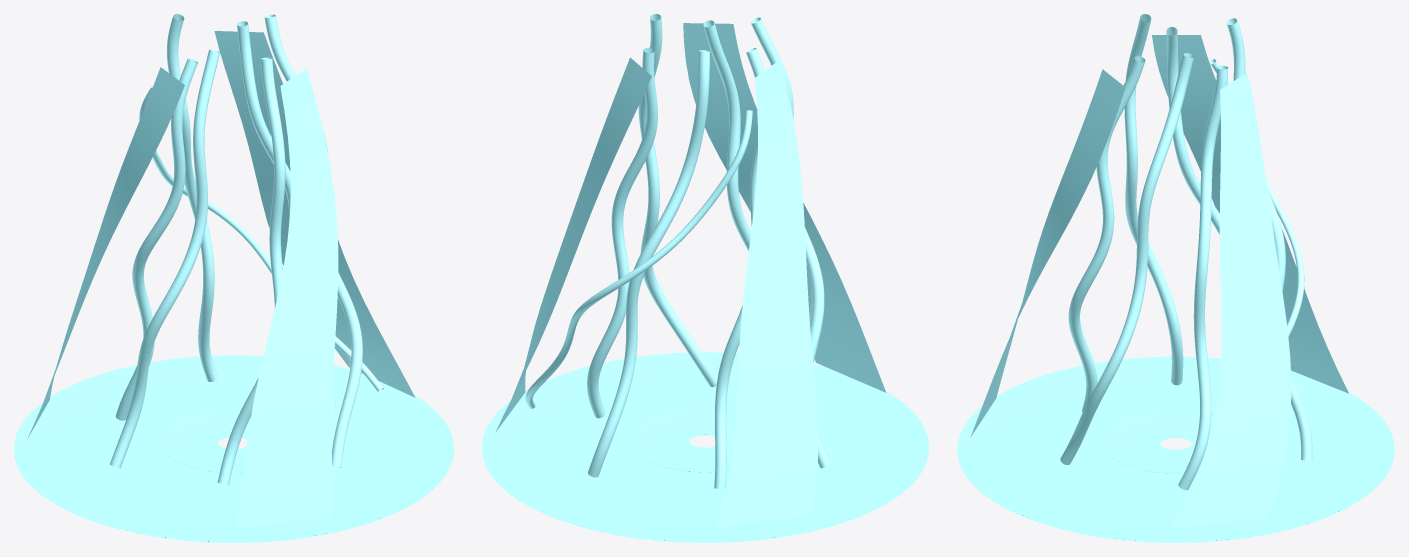
Rendered from CyberPickupLiftAura.fbx.
3 views of the same model, side by side, from view 1: azimuth 30°, elevation 25°; view 2: azimuth 150°, elevation 25°; view 3: azimuth 270°, elevation 25° (orthographic). The views are drawn at different scales.
Parts seen in each view (by area): view 1: CPLA_floor faint glow halo, CPLA_soft transparent air veil 03, CPLA_soft transparent air veil 01, CPLA_soft transparent air veil 02, CPLA_soft halo around stream 04, CPLA_soft halo around stream 05, CPLA_soft halo around stream 03, CPLA_floor soft jet origin, CPLA_soft halo around stream 02, CPLA_soft halo around stream 06, CPLA_soft halo around stream 01, CPLA_faint spiral halo envelope; view 2: CPLA_floor faint glow halo, CPLA_soft transparent air veil 02, CPLA_soft transparent air veil 03, CPLA_soft transparent air veil 01, CPLA_soft halo around stream 02, CPLA_floor soft jet origin, CPLA_soft halo around stream 01, CPLA_soft halo around stream 06, CPLA_faint spiral halo envelope, CPLA_soft halo around stream 03, CPLA_soft halo around stream 05, CPLA_soft halo around stream 04; view 3: CPLA_floor faint glow halo, CPLA_soft transparent air veil 01, CPLA_soft transparent air veil 02, CPLA_soft transparent air veil 03, CPLA_soft halo around stream 06, CPLA_soft halo around stream 01, CPLA_floor soft jet origin, CPLA_soft halo around stream 04, CPLA_soft halo around stream 05, CPLA_soft halo around stream 02, CPLA_soft halo around stream 03, CPLA_faint spiral halo envelope.
Boxes of the visible parts, <box> form: CPLA_floor faint glow halo: <box>14,355,453,542</box>; CPLA_soft transparent air veil 03: <box>236,68,338,527</box>; CPLA_soft transparent air veil 01: <box>214,31,415,397</box>; CPLA_soft transparent air veil 02: <box>27,67,184,439</box>; CPLA_soft halo around stream 04: <box>110,49,220,468</box>; CPLA_soft halo around stream 05: <box>217,57,285,484</box>; CPLA_soft halo around stream 03: <box>115,58,197,420</box>; CPLA_floor soft jet origin: <box>162,412,250,474</box>; CPLA_soft halo around stream 02: <box>166,14,217,381</box>; CPLA_soft halo around stream 06: <box>264,14,362,467</box>; CPLA_soft halo around stream 01: <box>237,21,335,410</box>; CPLA_faint spiral halo envelope: <box>139,87,383,392</box>; CPLA_floor faint glow halo: <box>482,352,928,542</box>; CPLA_soft transparent air veil 02: <box>715,60,817,527</box>; CPLA_soft transparent air veil 03: <box>683,23,886,392</box>; CPLA_soft transparent air veil 01: <box>496,57,651,431</box>; CPLA_soft halo around stream 02: <box>588,50,709,477</box>; CPLA_floor soft jet origin: <box>633,410,736,473</box>; CPLA_soft halo around stream 01: <box>587,47,657,418</box>; CPLA_soft halo around stream 06: <box>638,14,717,387</box>; CPLA_faint spiral halo envelope: <box>525,110,752,408</box>; CPLA_soft halo around stream 03: <box>714,48,764,488</box>; CPLA_soft halo around stream 05: <box>703,20,750,250</box>; CPLA_soft halo around stream 04: <box>750,17,830,468</box>; CPLA_floor faint glow halo: <box>957,356,1394,542</box>; CPLA_soft transparent air veil 01: <box>1172,73,1291,527</box>; CPLA_soft transparent air veil 02: <box>1152,35,1348,393</box>; CPLA_soft transparent air veil 03: <box>970,69,1125,437</box>; CPLA_soft halo around stream 06: <box>1060,53,1194,464</box>; CPLA_soft halo around stream 01: <box>1178,65,1228,490</box>; CPLA_floor soft jet origin: <box>1105,412,1214,474</box>; CPLA_soft halo around stream 04: <box>1124,14,1183,385</box>; CPLA_soft halo around stream 05: <box>1068,56,1145,412</box>; CPLA_soft halo around stream 02: <box>1226,18,1312,460</box>; CPLA_soft halo around stream 03: <box>1166,27,1219,234</box>; CPLA_faint spiral halo envelope: <box>1210,59,1304,337</box>.
Size of the model in its own units: 65.6 by 69.2 by 65.6.
